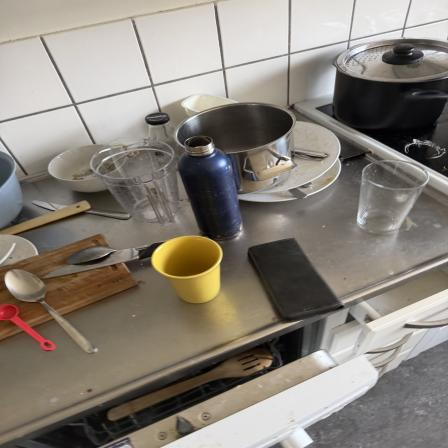blue_bottle: (170, 134, 252, 239)
phone: (246, 240, 352, 321)
yellow_cup: (152, 234, 230, 306)
